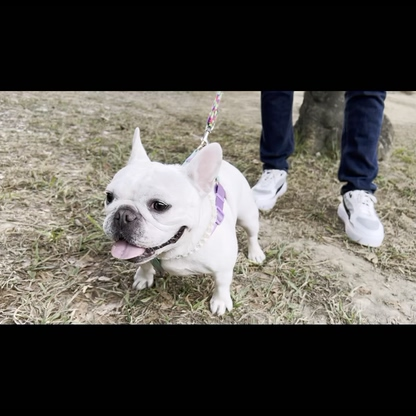bulldog: (100, 124, 271, 318)
